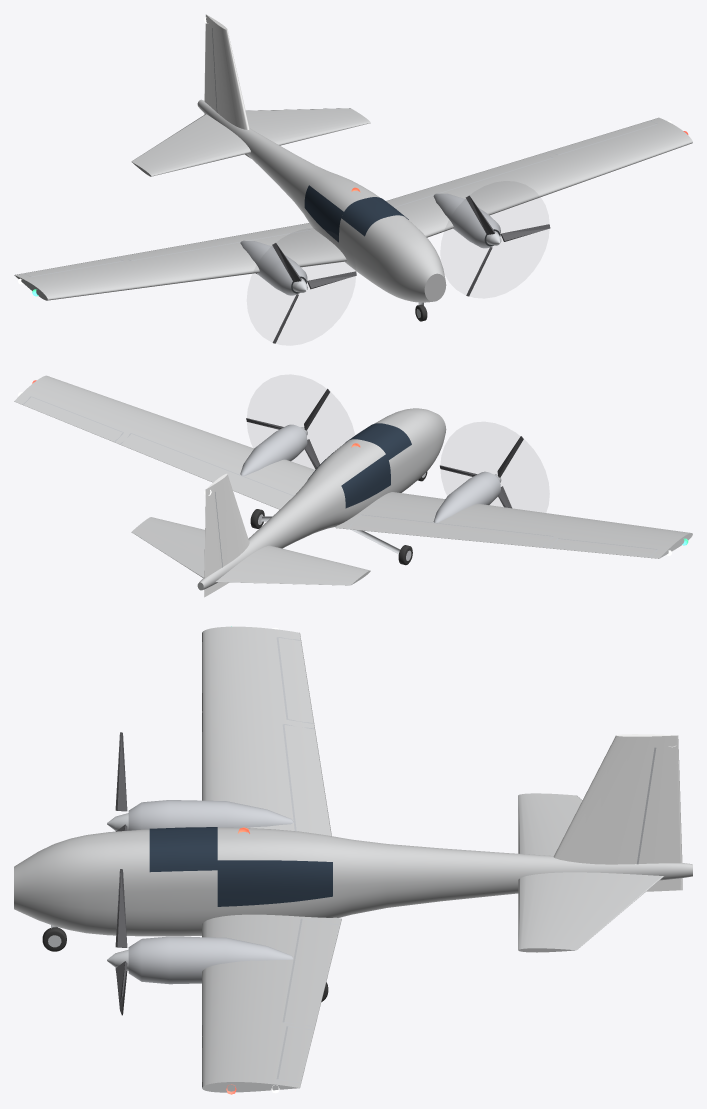
3 renders of one model, top to bottom at view 1: azimuth 30°, elevation 25°; view 2: azimuth 150°, elevation 25°; view 3: azimuth 270°, elevation 25°, orthographic. The views are drawn at different scales.
Visible parts, largest first — view 1: airframe, prop (×2); view 2: airframe, prop (×2), gear; view 3: airframe, prop.
Boxes of the visible parts, box(x1,y1,x2,y2) form: airframe: box(14, 14, 692, 302); prop (×2): box(272, 195, 550, 343); airframe: box(14, 375, 692, 597); prop (×2): box(246, 388, 523, 508); gear: box(250, 471, 427, 565); airframe: box(14, 626, 692, 1094); prop: box(115, 869, 127, 1015).
Bounding box in the file's own units: 14.82 × 3.58 × 9.2.
